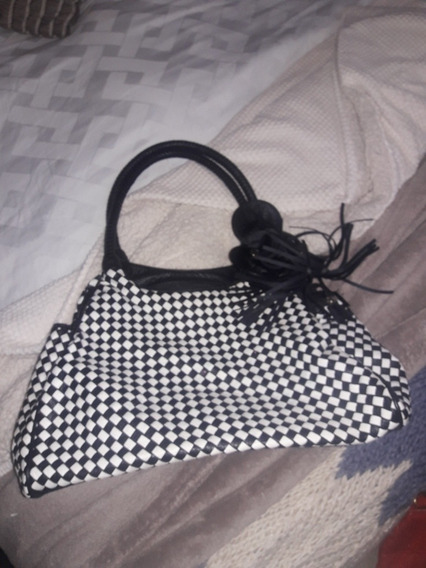cartera: (9, 138, 413, 502)
